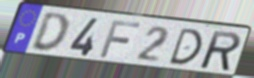2: (134, 26, 170, 64)
4: (68, 16, 100, 58)
D: (28, 12, 70, 55), (166, 27, 204, 66)
F: (98, 19, 143, 59)
R: (199, 29, 243, 73)
